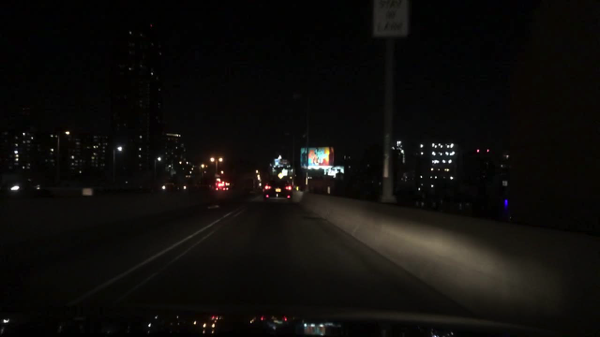car: (0, 173, 46, 199), (262, 180, 293, 204), (158, 176, 191, 194), (213, 185, 222, 191), (221, 187, 230, 191)
traffic sign: (373, 0, 407, 34), (279, 173, 285, 179)
